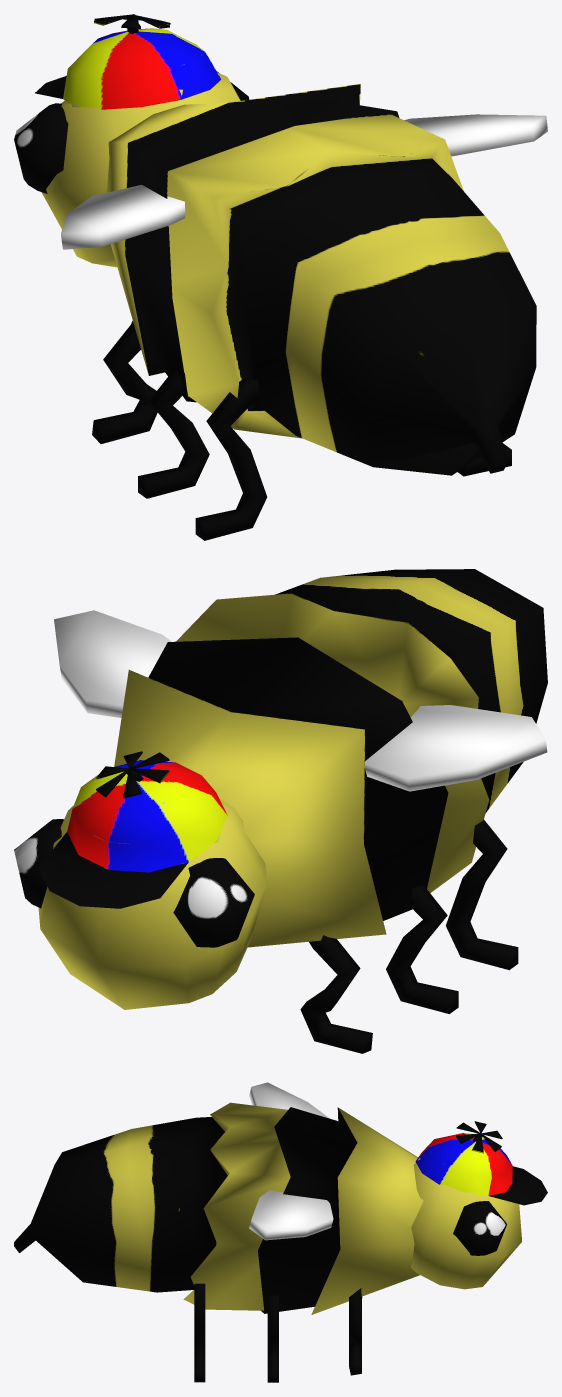
Rendered from kid-bee.glb.
3 views of the same model, one above another, from view 1: azimuth 30°, elevation 25°; view 2: azimuth 150°, elevation 25°; view 3: azimuth 270°, elevation 25° (orthographic). The views are drawn at different scales.
Visible parts, largest first — view 1: Low Poly Kid Bee; view 2: Low Poly Kid Bee; view 3: Low Poly Kid Bee.
Boxes of the visible parts, x1,y1,x2,y2 form: Low Poly Kid Bee: (14,14,547,540); Low Poly Kid Bee: (14,569,547,1053); Low Poly Kid Bee: (14,1082,547,1382).
Bounding box in the file's own units: 0.6062 × 0.3964 × 0.9175.
1 material, 1 textured.
